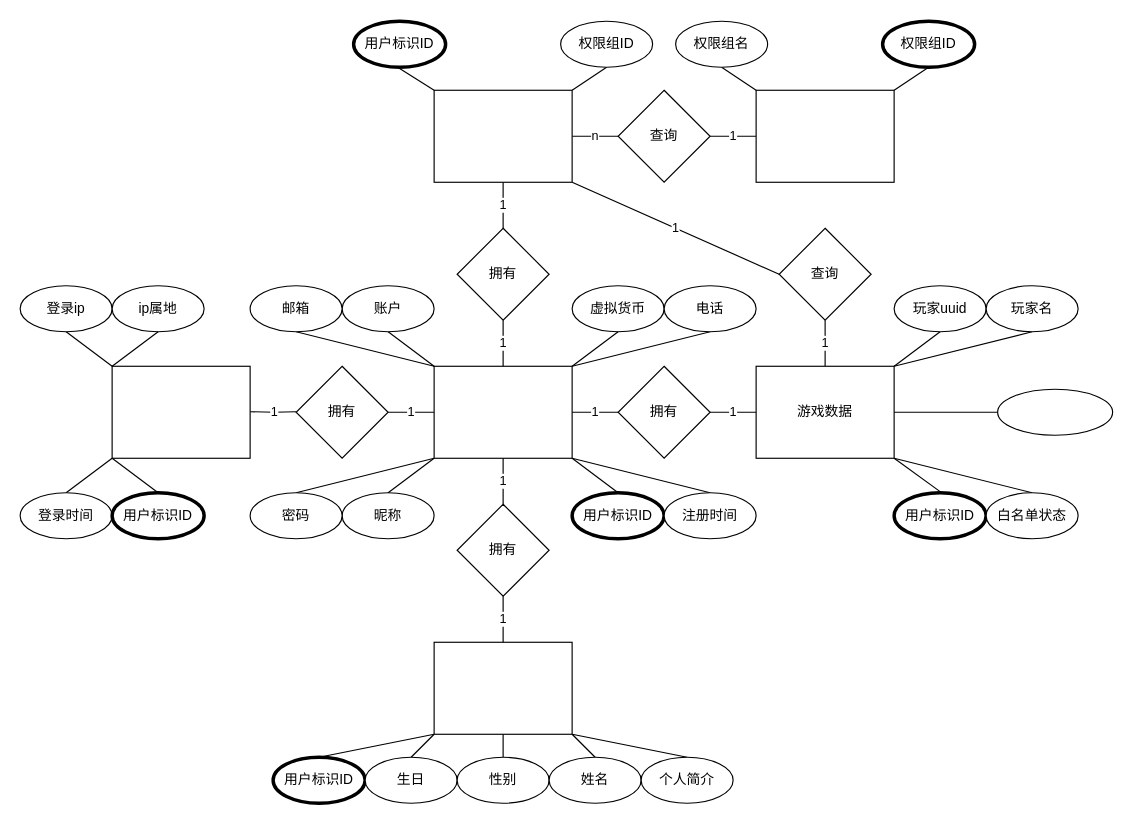
Image size: 1133x825. Some labels were removed from this diagram. The centre of each missing label's shape, as x and y in pixels:
权限组列表: the point at 824,135
用户: the point at 502,411
用户个人信息: the point at 502,687
用户权限关联: the point at 502,135
登陆记录: the point at 180,411
白名单通过时间: the point at 1054,411
